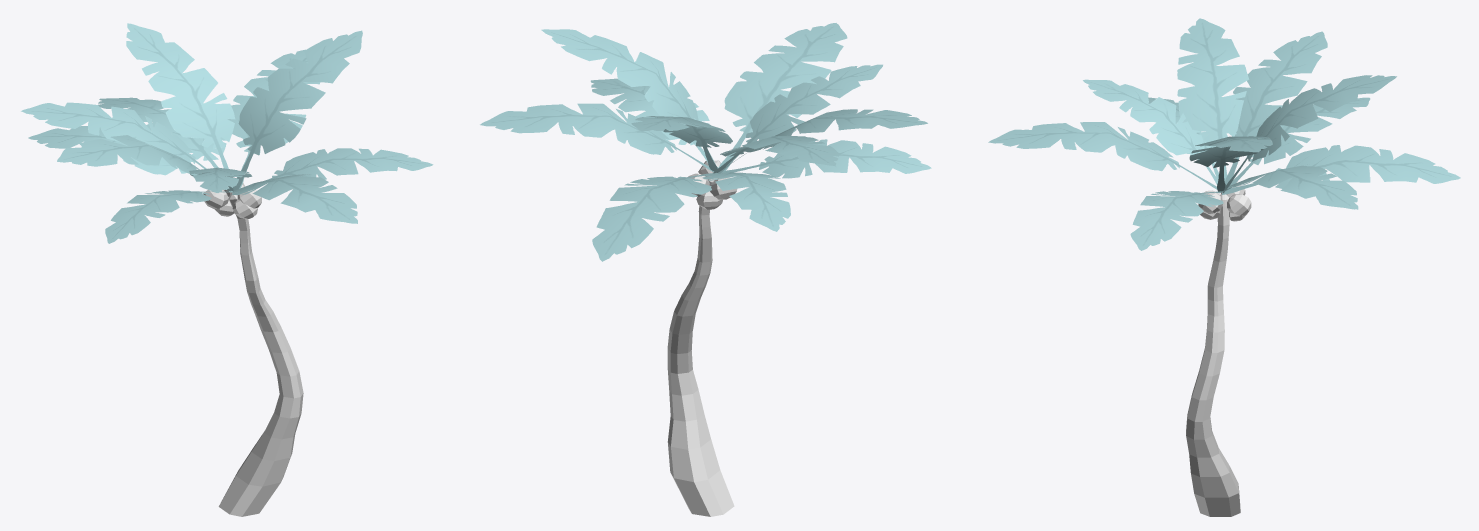
File: M.coconut_tree-v4-3.fbx
3 views of the same model, side by side, from view 1: azimuth 30°, elevation 25°; view 2: azimuth 150°, elevation 25°; view 3: azimuth 270°, elevation 25° (orthographic). The views are drawn at different scales.
Visible parts, largest first — view 1: palmtree_04.001; view 2: palmtree_04.001; view 3: palmtree_04.001.
Part boxes in pixels (x1,y1,x2,y2): palmtree_04.001: [21, 23, 433, 516]; palmtree_04.001: [480, 23, 931, 516]; palmtree_04.001: [988, 18, 1460, 516].
Bounding box in the file's own units: 1114 × 1234 × 1272.
